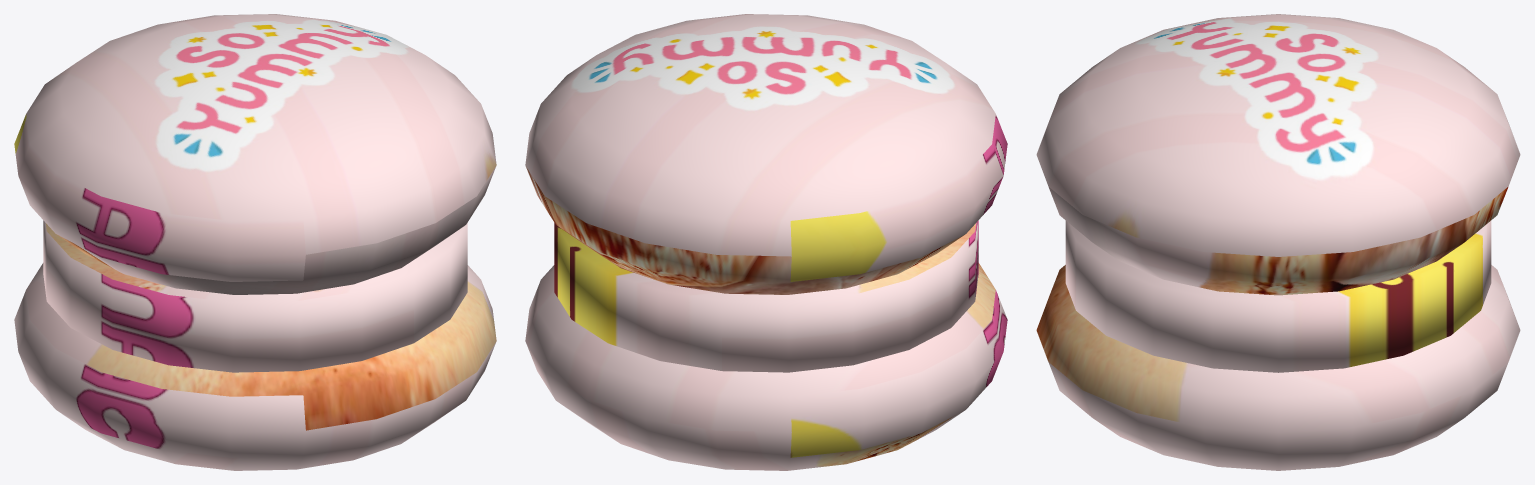
The model's file is prop_raspberry_cheesecake_macaron.glb.
The picture shows the model from 3 angles, left to right: view 1: azimuth 30°, elevation 25°; view 2: azimuth 150°, elevation 25°; view 3: azimuth 270°, elevation 25°; orthographic projection.
Visible parts, largest first — view 1: prop_raspberry_cheesecake_macaron; view 2: prop_raspberry_cheesecake_macaron; view 3: prop_raspberry_cheesecake_macaron.
Part boxes in pixels (left/top/right/bottom): prop_raspberry_cheesecake_macaron: left=14, top=14, right=496, bottom=470; prop_raspberry_cheesecake_macaron: left=525, top=14, right=1007, bottom=470; prop_raspberry_cheesecake_macaron: left=1036, top=14, right=1520, bottom=470.
Size of the model in its own units: 0.05 by 0.0425 by 0.05.
1 material, 1 textured.
